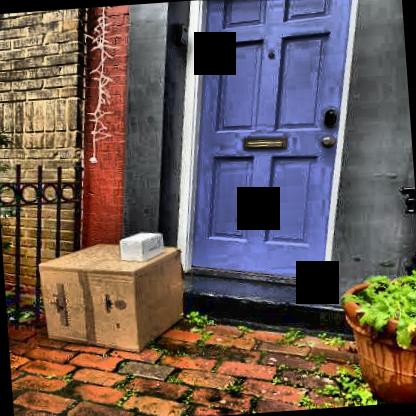no defect parcel: (34, 235, 205, 367), (114, 223, 172, 263)
